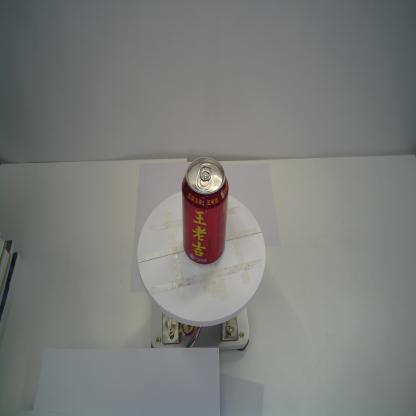Drink: (181, 156, 229, 266)
